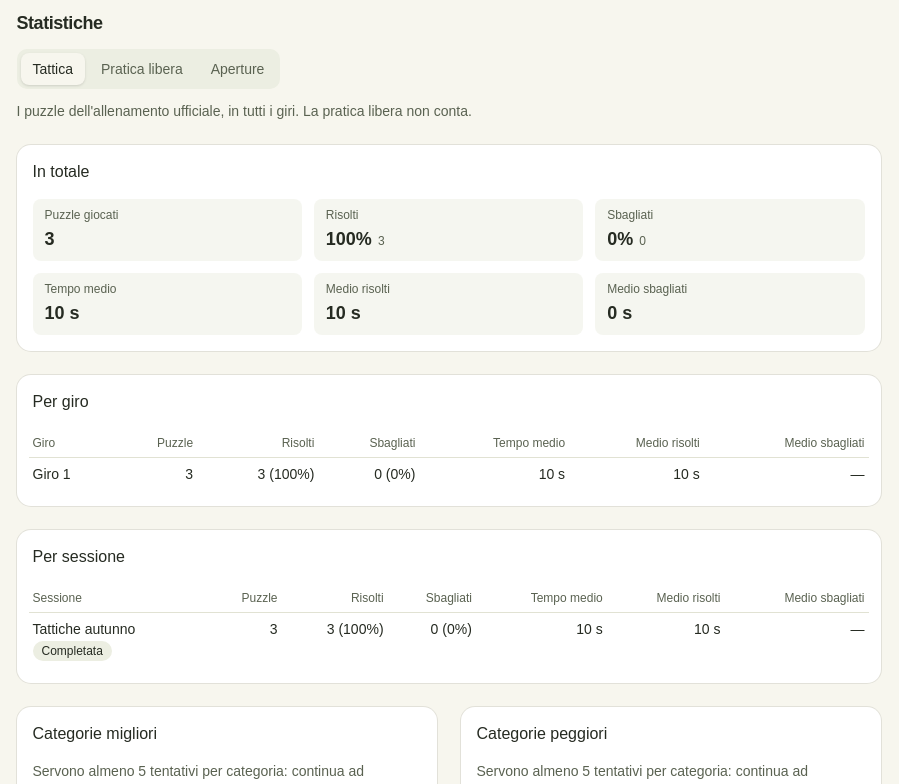
Test: StatsPage free practice tab › switches to free practice totals, sessions and categories
The image size is (899, 784).
Click the tab "Pratica libera" at (142, 69), box [89,53,195,85]
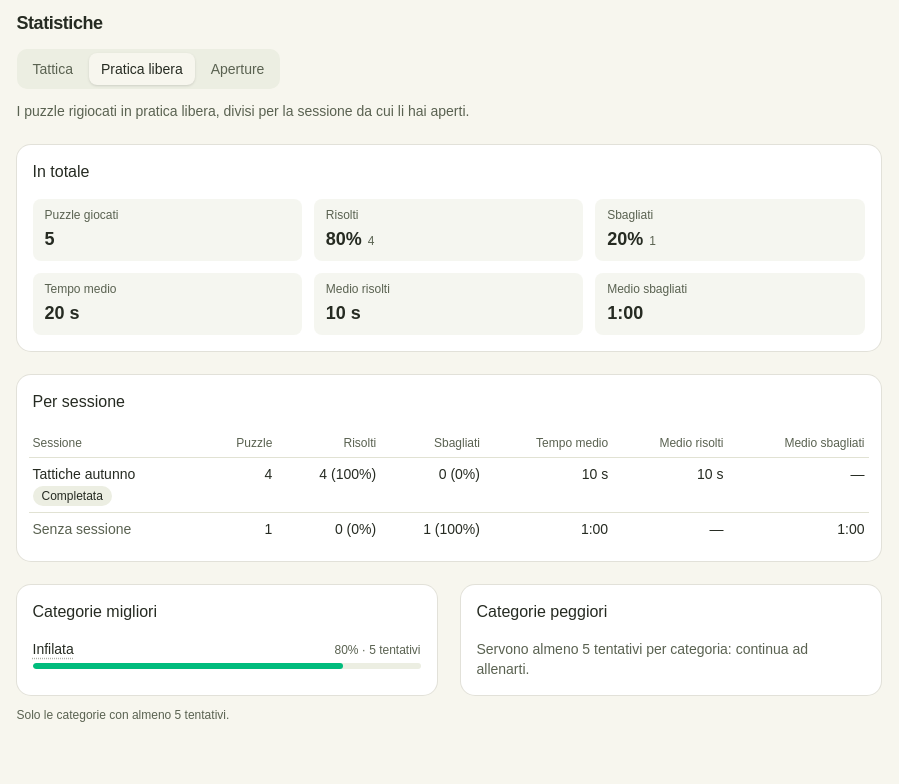
Expected: the text "I puzzle rigiocati in pratica libera, divisi per la sessione da cui li hai aperti." is shown, [16,103,469,119]
Expected: the text "Per giro" is gone
Expected: the text "Senza sessione" is shown, [32,521,131,537]
